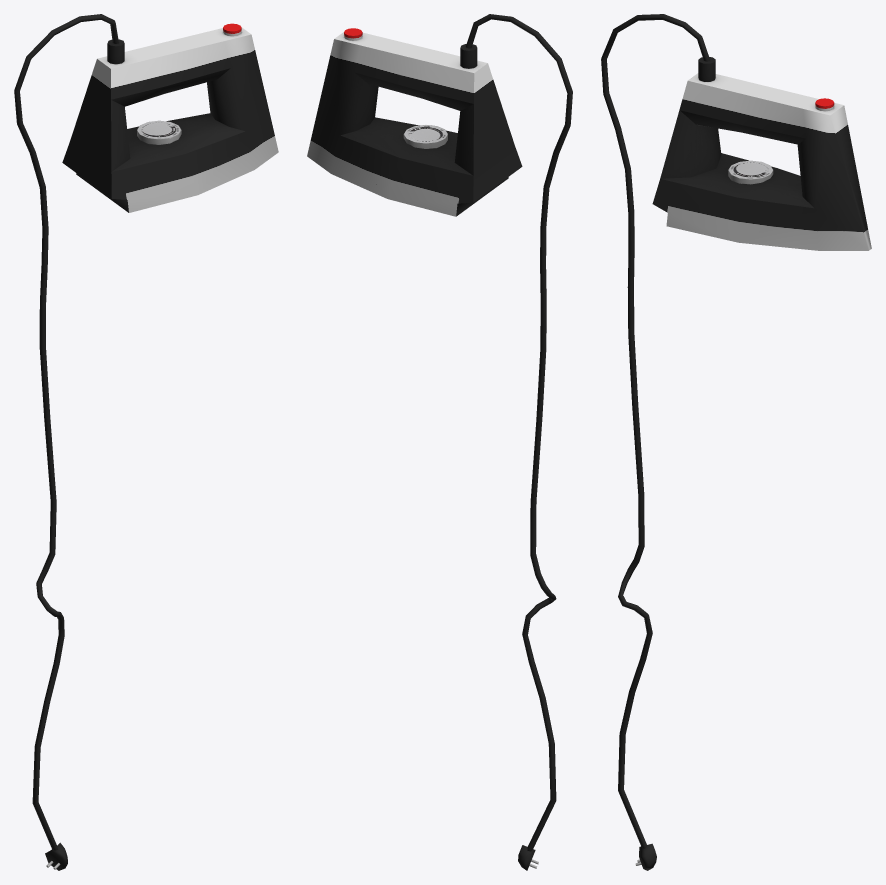
Rendered from ironer.fbx.
The picture shows the model from 3 angles, left to right: view 1: azimuth 30°, elevation 25°; view 2: azimuth 150°, elevation 25°; view 3: azimuth 330°, elevation 25°; orthographic projection.
Parts seen in each view (by area): view 1: iron; view 2: iron; view 3: iron.
Boxes of the visible parts, x1,y1,x2,y2 form: iron: [14, 14, 278, 870]; iron: [307, 14, 572, 870]; iron: [601, 14, 871, 870].
Bounding box in the file's own units: 0.9192 × 2.83 × 0.3223.
Materials: 1 (1 with a texture image).
